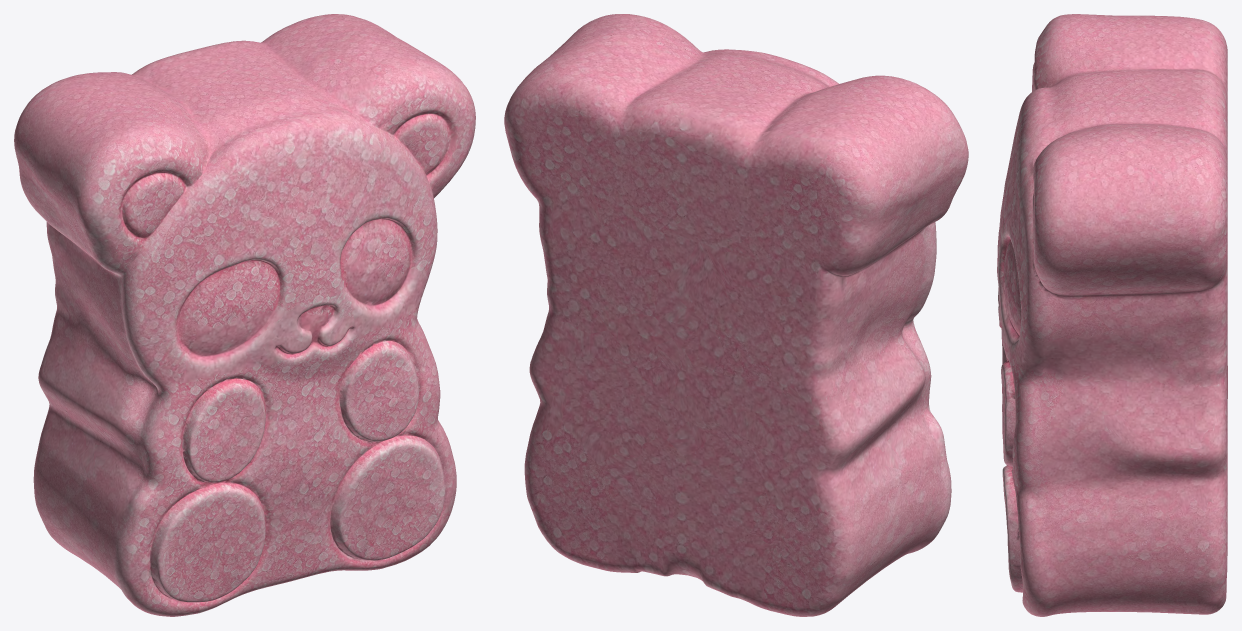
File: panda.glb
The picture shows the model from 3 angles, left to right: view 1: azimuth 30°, elevation 25°; view 2: azimuth 150°, elevation 25°; view 3: azimuth 270°, elevation 25°; orthographic projection. The views are drawn at different scales.
Bounding box in the file's own units: 1.6 × 1.9 × 0.8301.
Materials: 1 (1 with a texture image).
